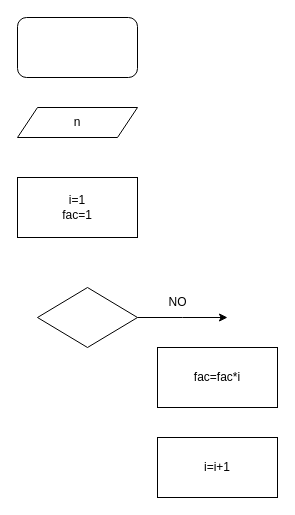
This 295x515 diagram has some shape labels left out. The box of each missing label's shape, as (x1, y1, x2, y2) in pixels:
I=N: (36, 286, 138, 348)
START: (16, 16, 138, 78)
